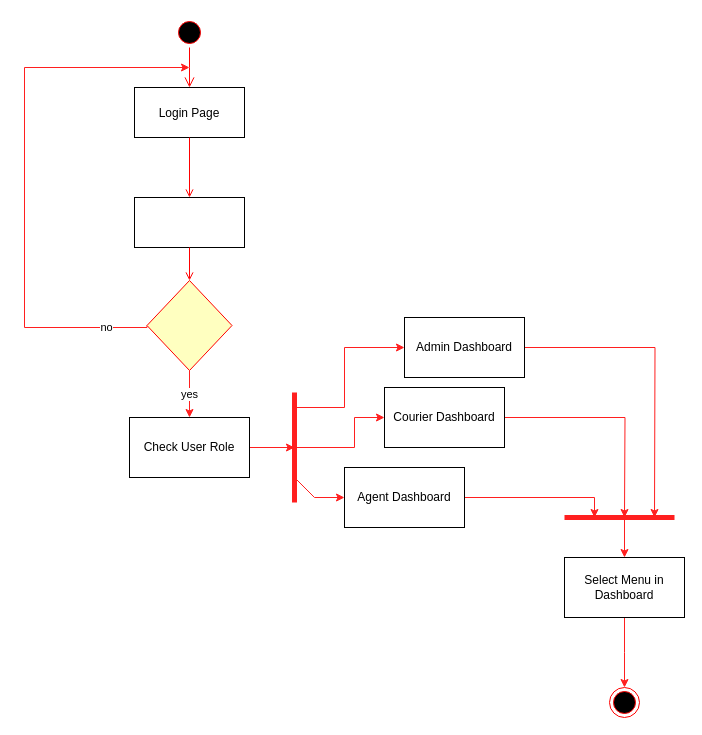
This 702x735 diagram has some shape labels left out. The centre of each missing label's shape, as x and y in pixels:
Correct Credentials: the point at 189,325
Enter Username and Password: the point at 189,222
